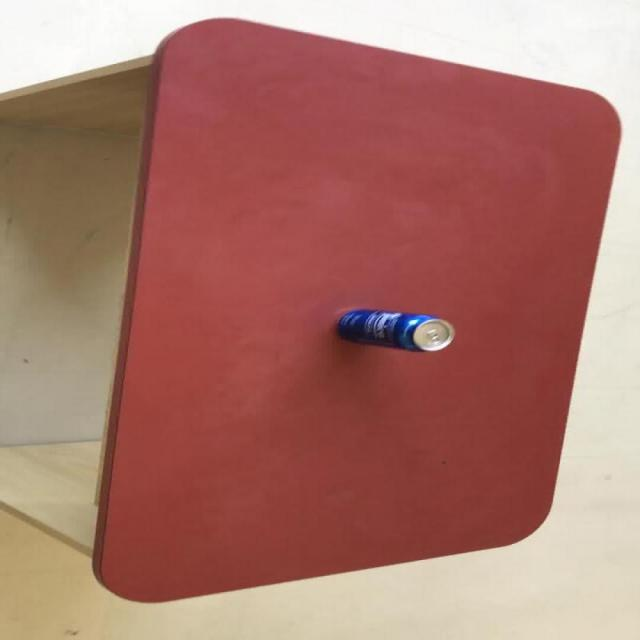Tonic: (334, 307, 454, 351)
